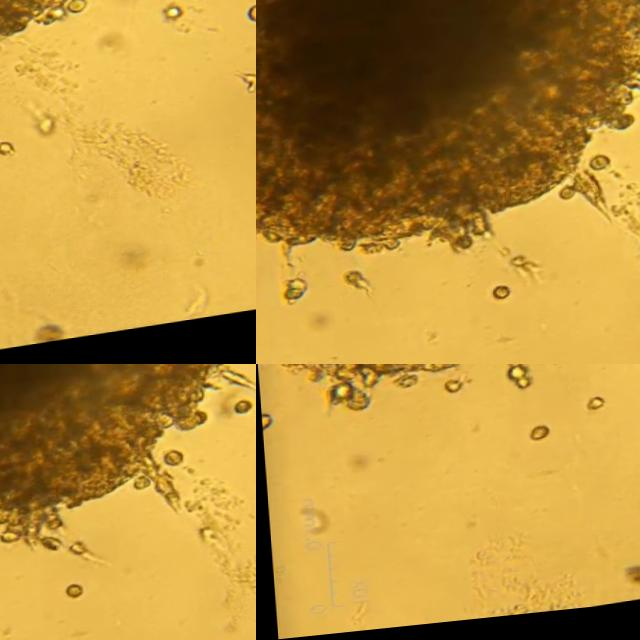cell: (568, 178, 607, 228), (507, 264, 537, 285), (342, 273, 368, 297), (33, 333, 59, 350), (588, 160, 610, 179), (157, 16, 180, 34), (236, 85, 256, 105), (525, 430, 546, 449), (162, 458, 183, 476), (35, 123, 51, 146), (620, 573, 640, 591), (489, 289, 508, 306), (230, 410, 250, 426), (67, 545, 85, 561), (283, 280, 301, 295), (62, 590, 80, 605), (282, 289, 300, 303), (243, 17, 256, 36), (586, 405, 601, 420), (557, 194, 573, 207), (259, 414, 270, 431), (0, 148, 12, 162)
